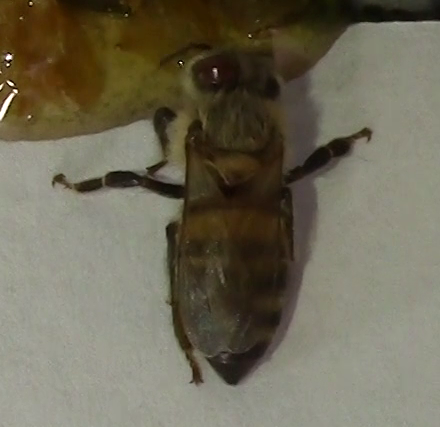Varroa destructor: (191, 51, 246, 93)
